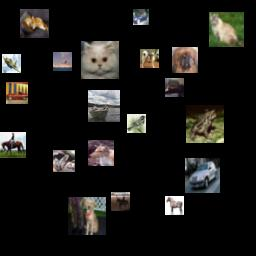airplane: (2, 54, 21, 73)
automobile: (185, 158, 220, 193), (6, 82, 28, 104), (133, 9, 149, 25)
bird: (127, 114, 146, 133)
cat: (81, 41, 119, 79), (209, 12, 244, 47), (20, 9, 49, 38), (165, 78, 184, 97)
deer: (88, 140, 114, 166)
dog: (68, 197, 106, 235), (172, 47, 198, 73), (140, 49, 159, 68)
frog: (186, 105, 224, 143), (53, 150, 75, 172)
ship: (88, 90, 120, 122), (53, 52, 72, 71)
